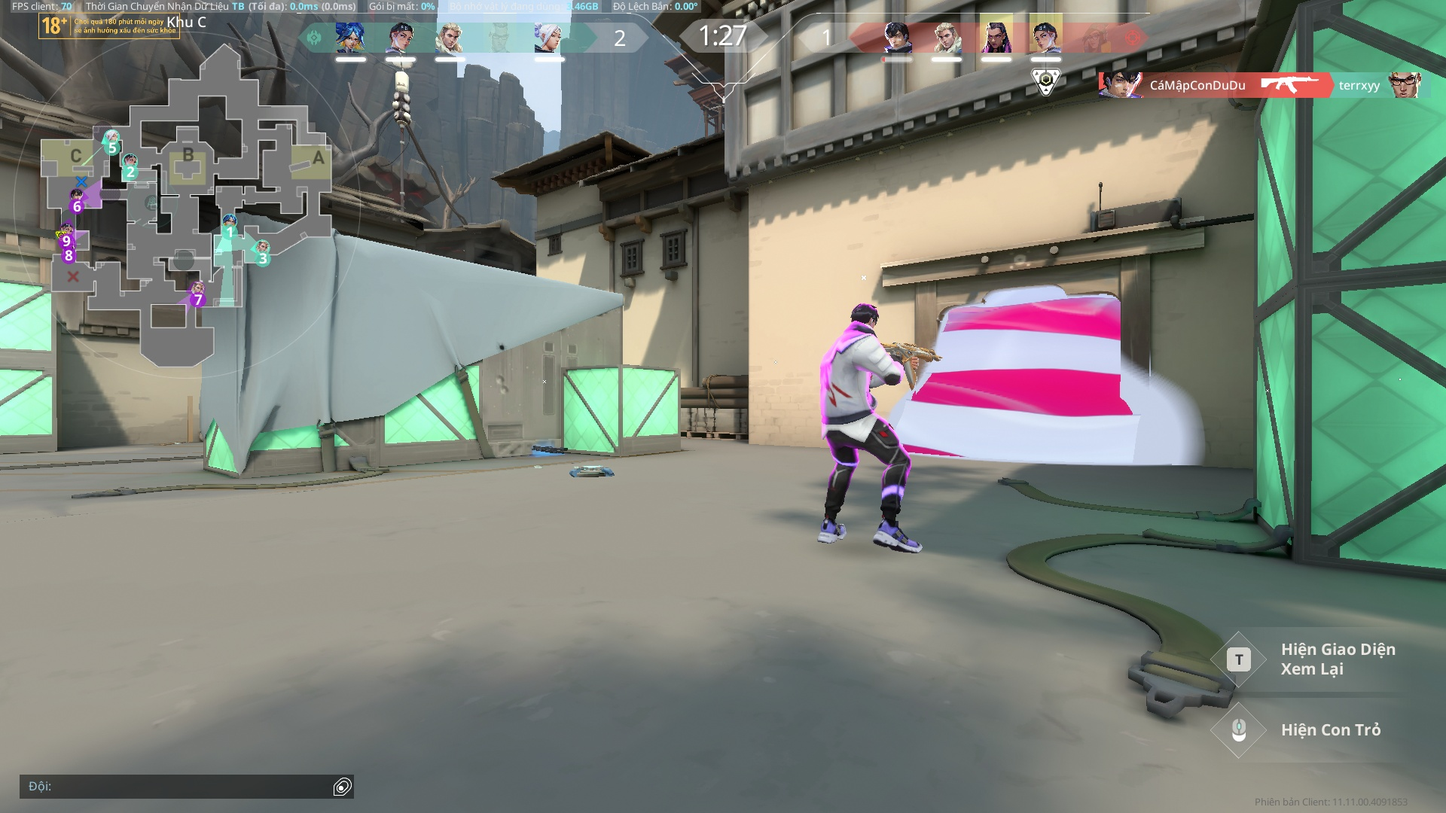body: (817, 328, 896, 416)
head: (847, 300, 882, 333)
